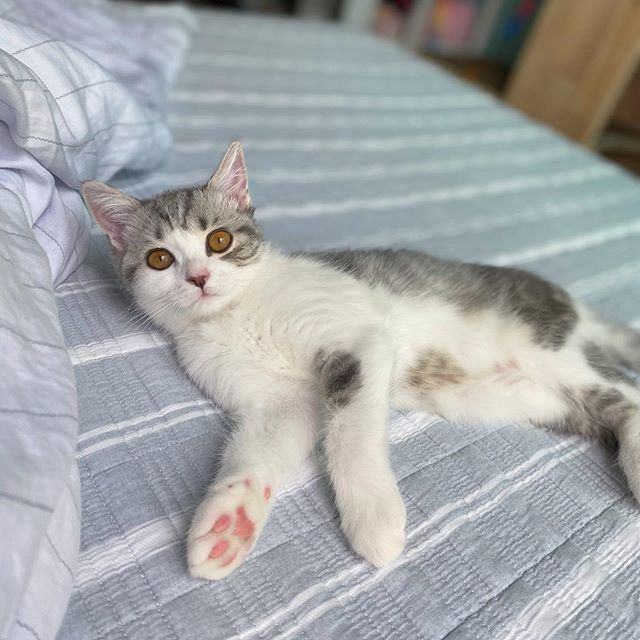cat: (75, 145, 279, 341)
